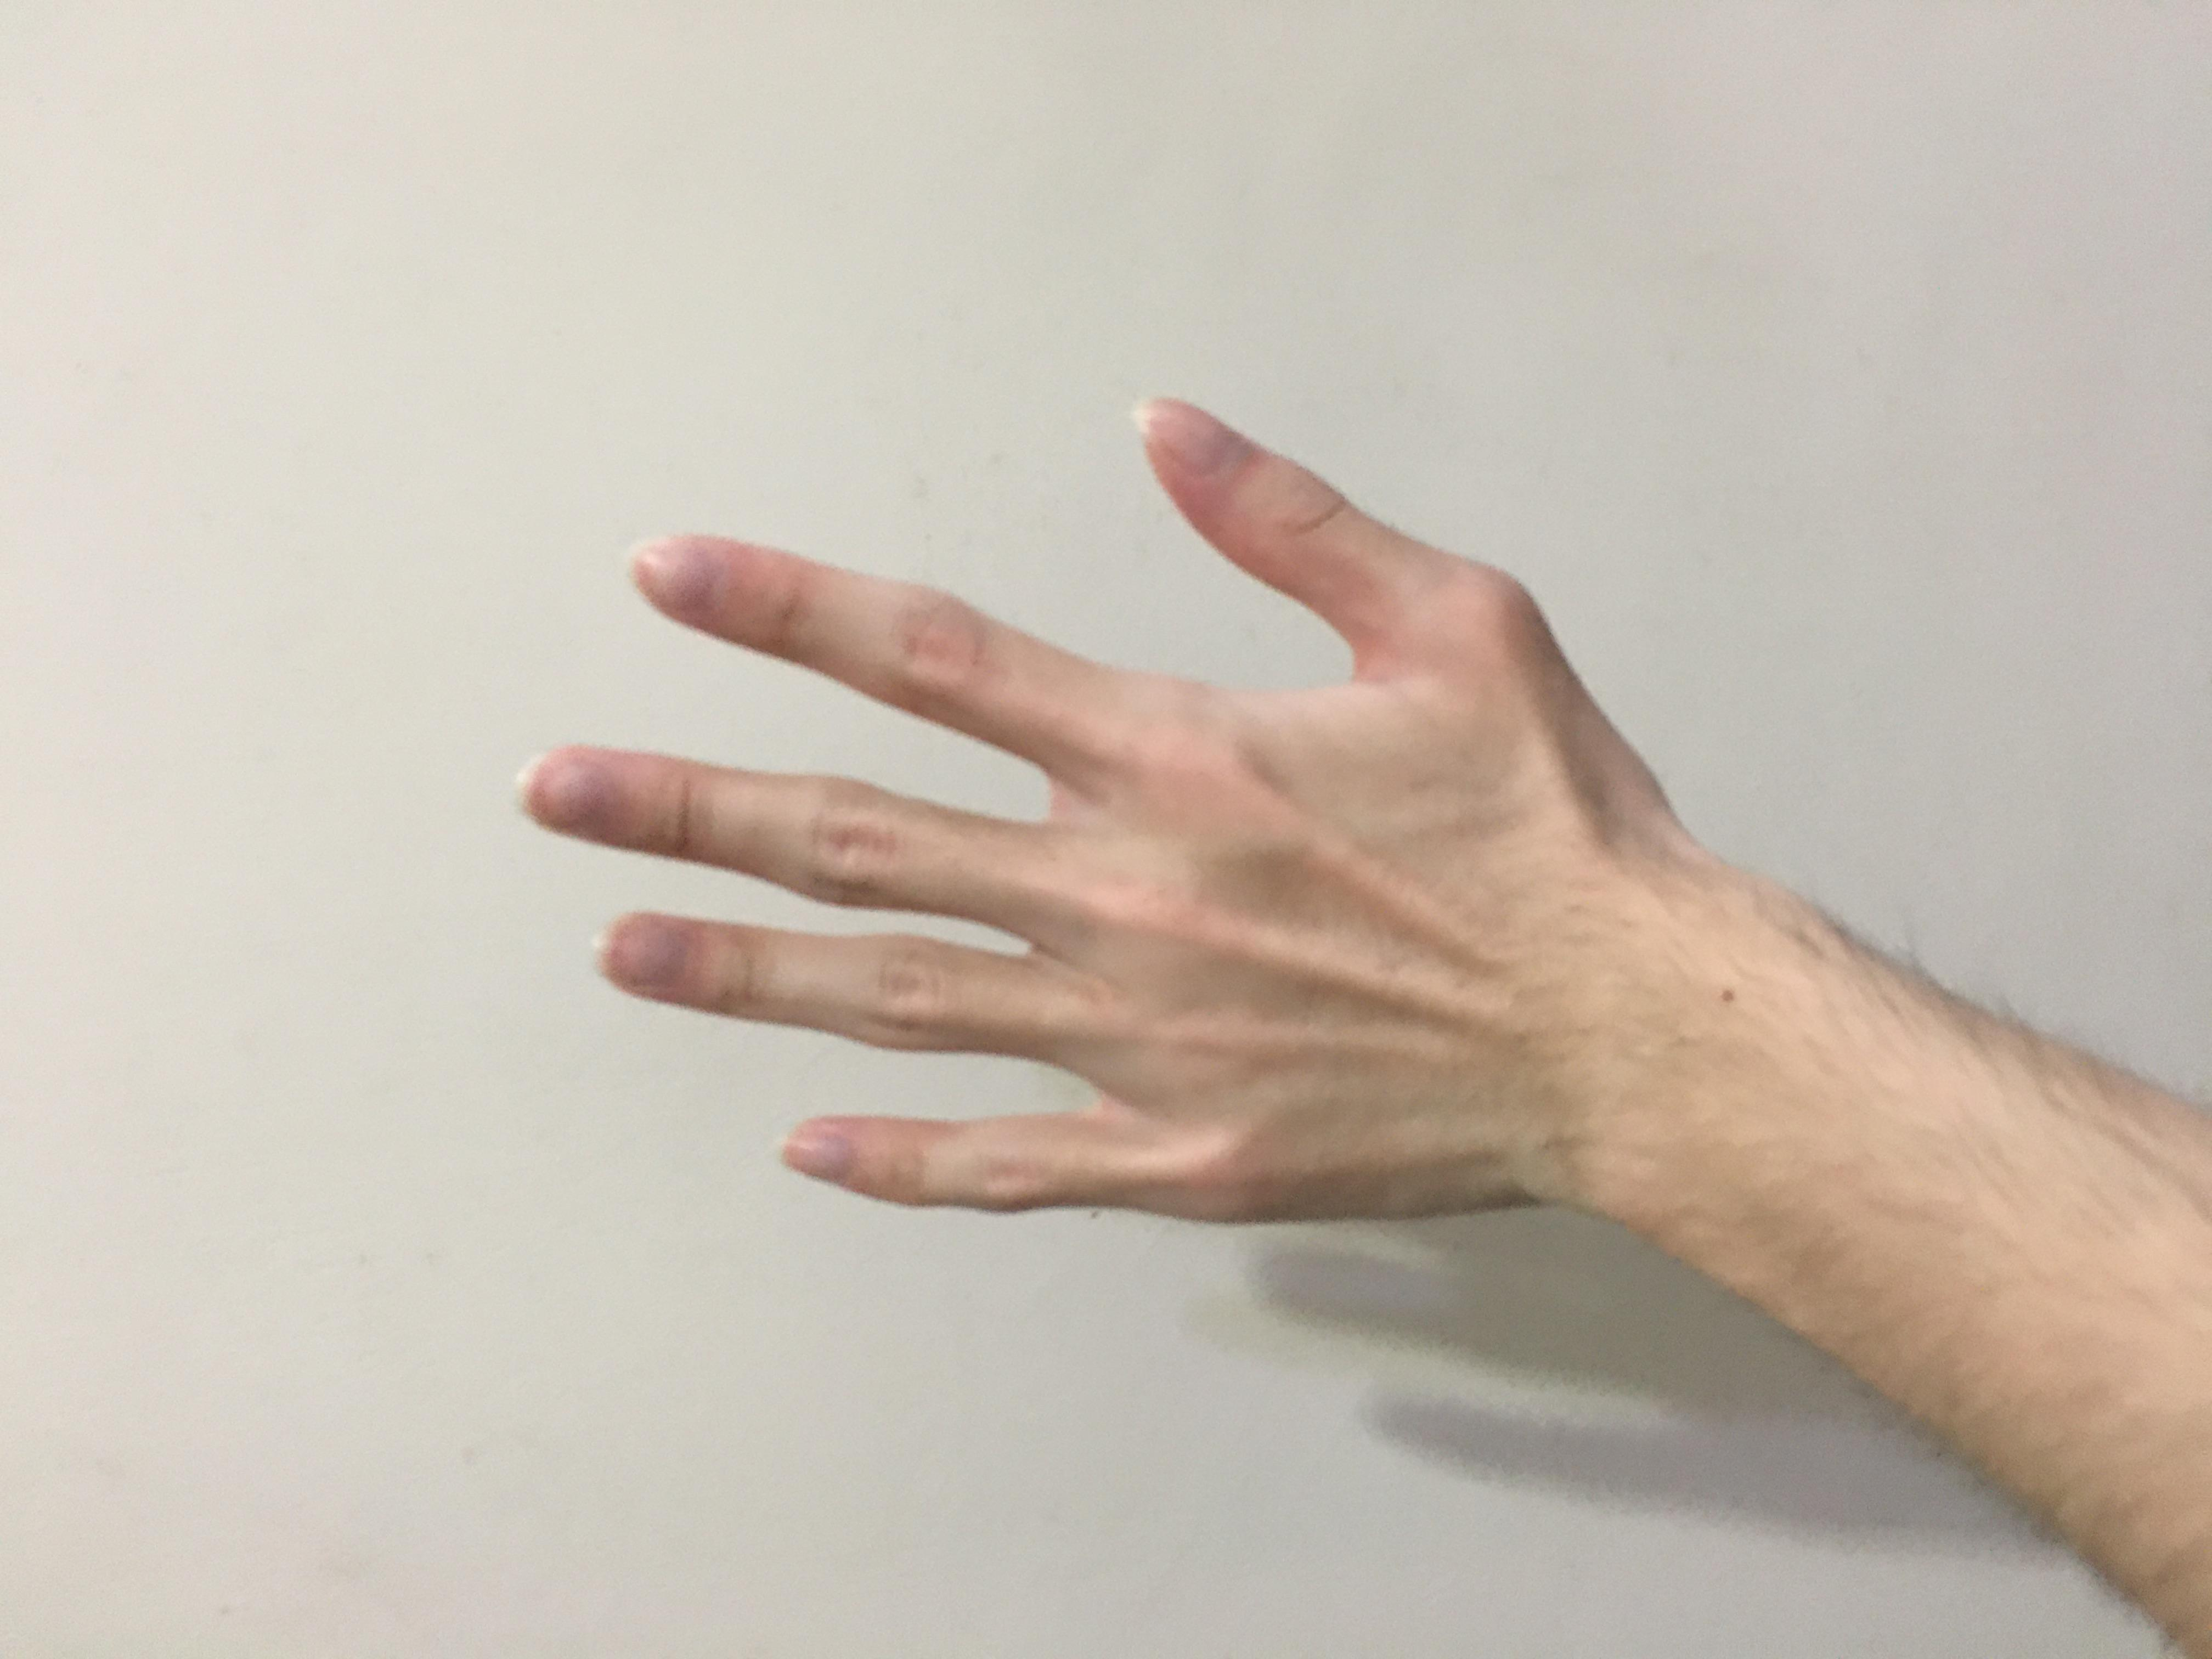hand: (570, 380, 1695, 1237)
